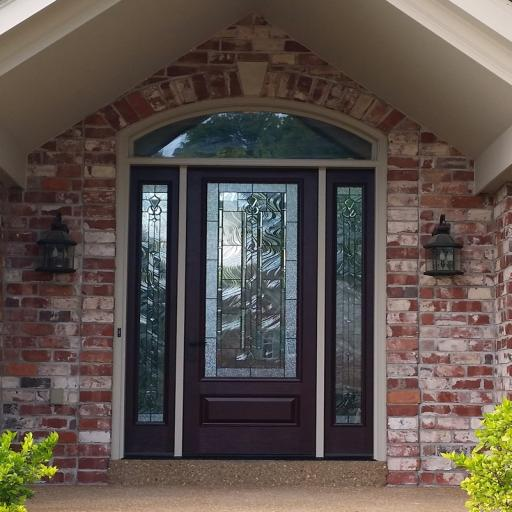Door: (111, 96, 388, 462)
